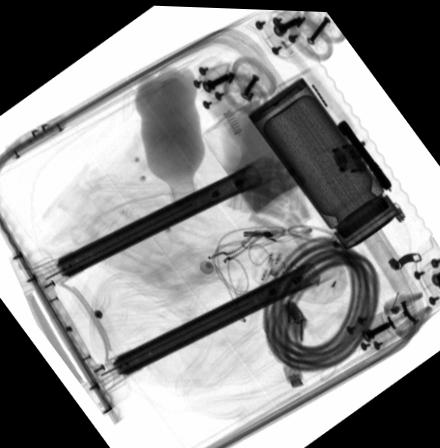Gun: (335, 116, 391, 188)
